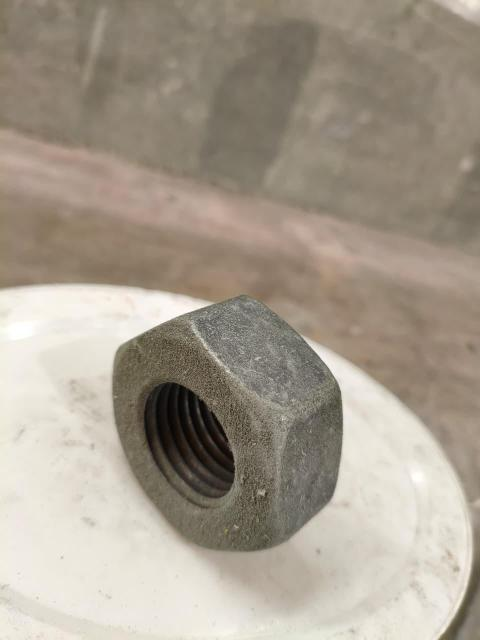Metal: (98, 298, 350, 550)
